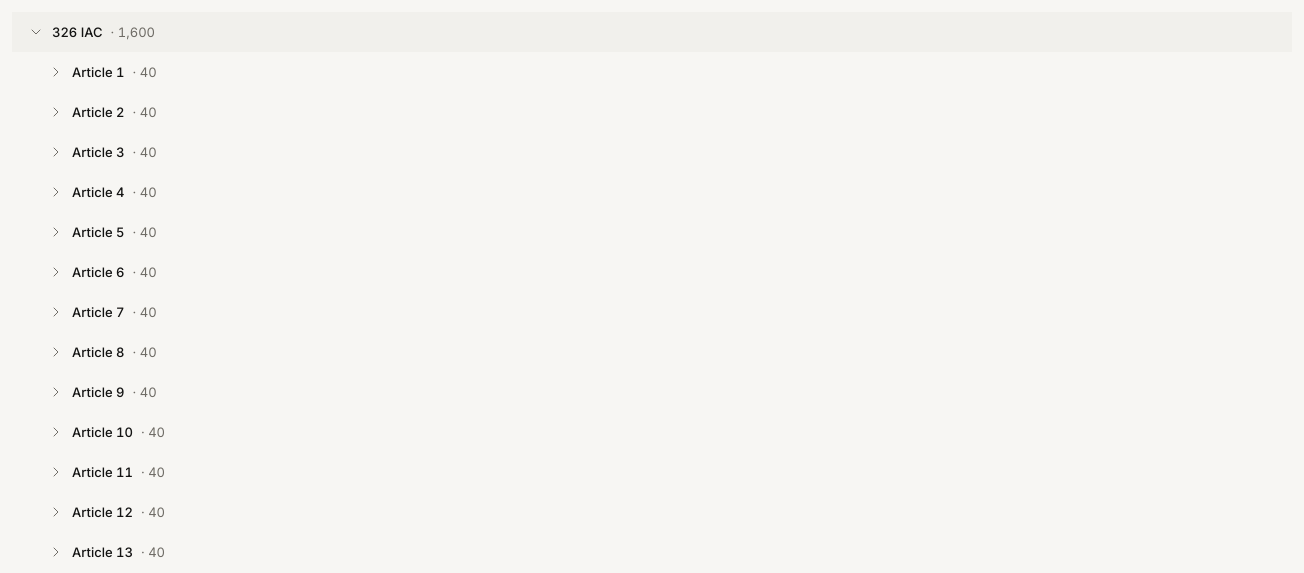
Test case: SectionTree › keeps thousands of sections out of the DOM until a rule is opened
The width and height of the screenshot is (1304, 573).
Click the button "Article 1 · 40" at [98, 72], box [12, 52, 1292, 92]
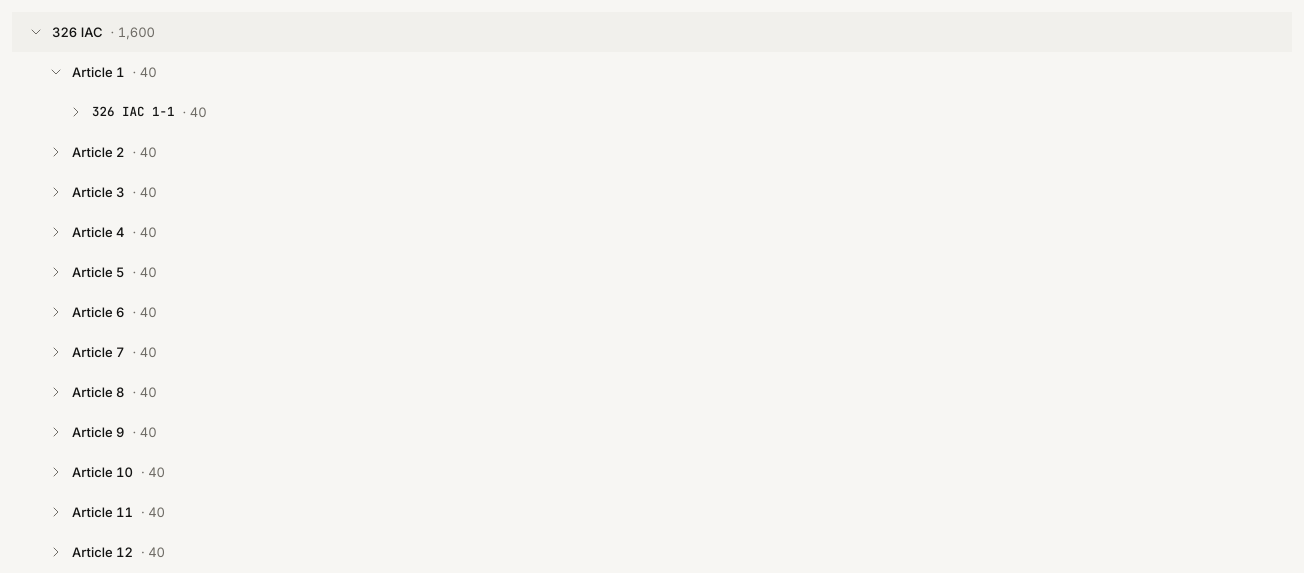
Click the button "326 IAC 1-1 · 40" at [133, 112], box [12, 92, 1292, 132]
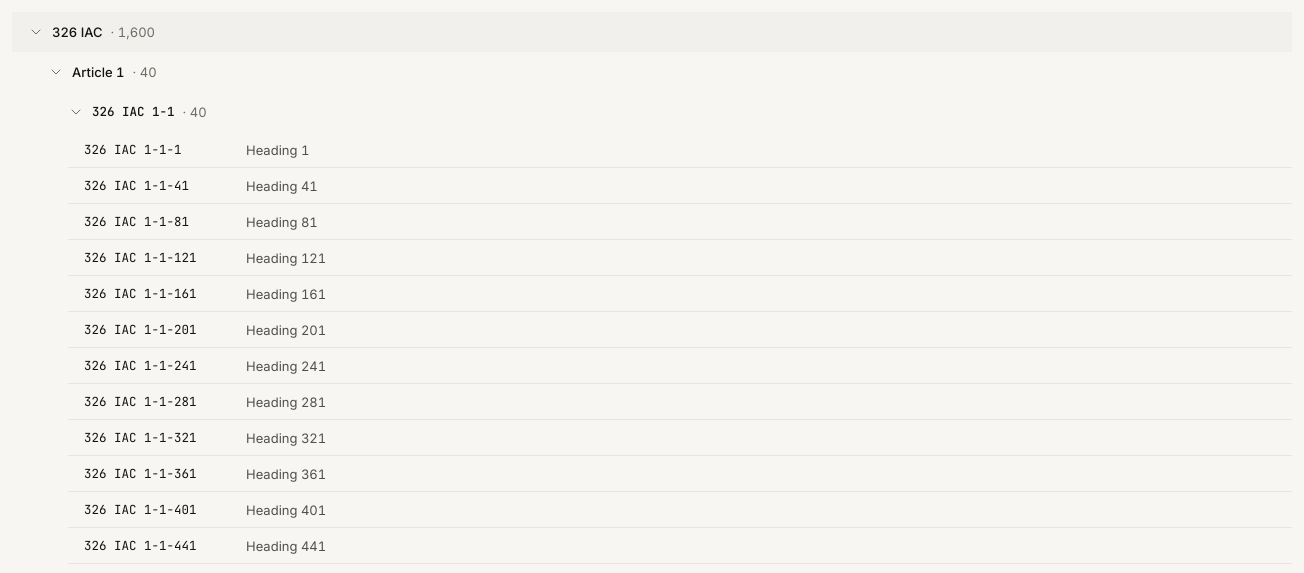
Expected: the number of links is 40
